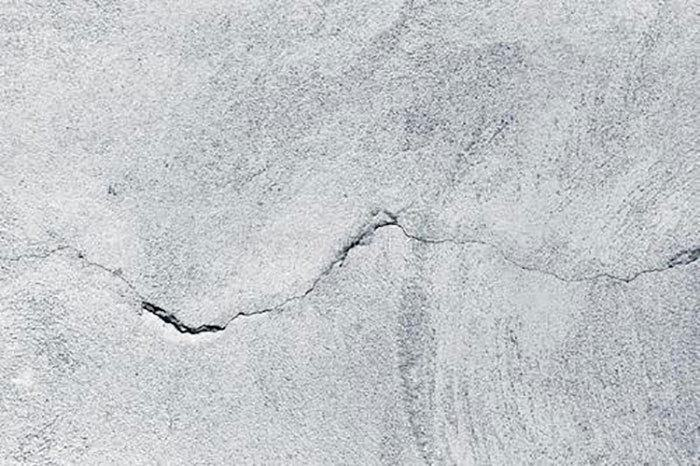Crack: (1, 207, 700, 334)
